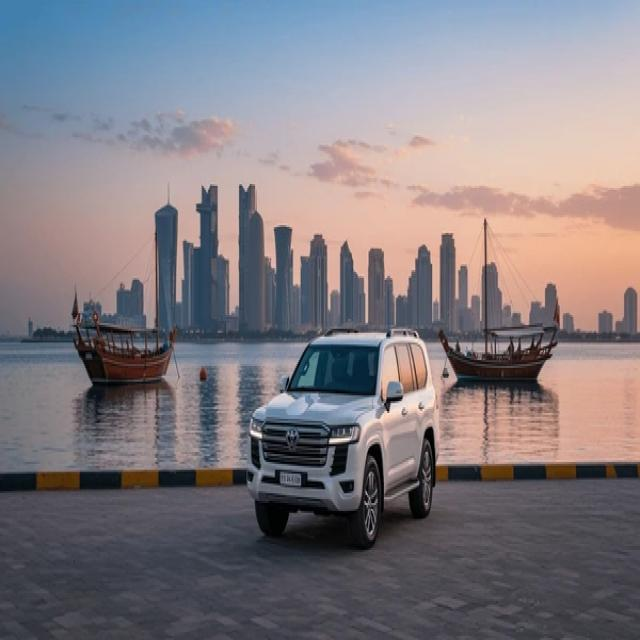toyota: (284, 429, 301, 449)
